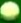white: (0, 0, 21, 23)
